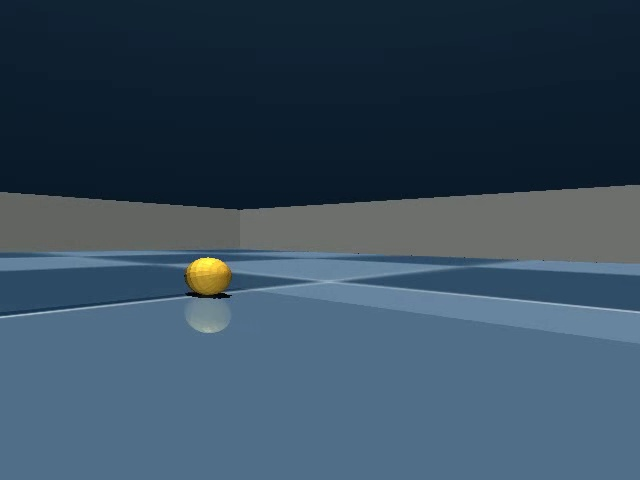lemon: (179, 252, 237, 302)
